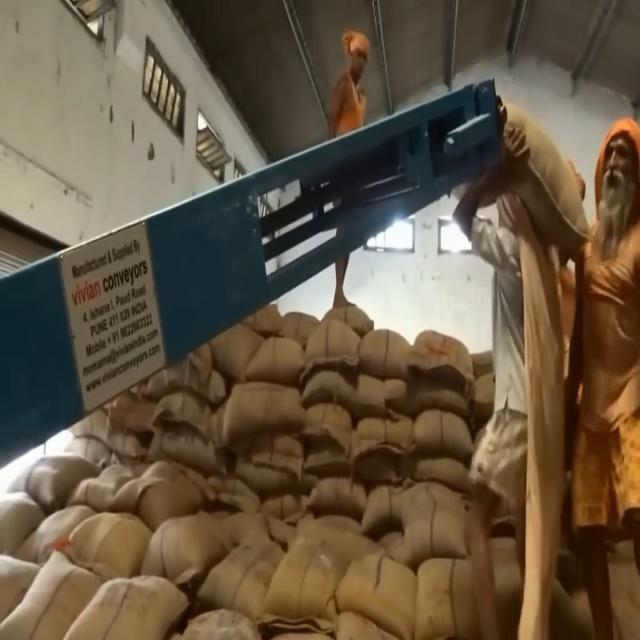gunny_bag: (502, 102, 588, 253)
